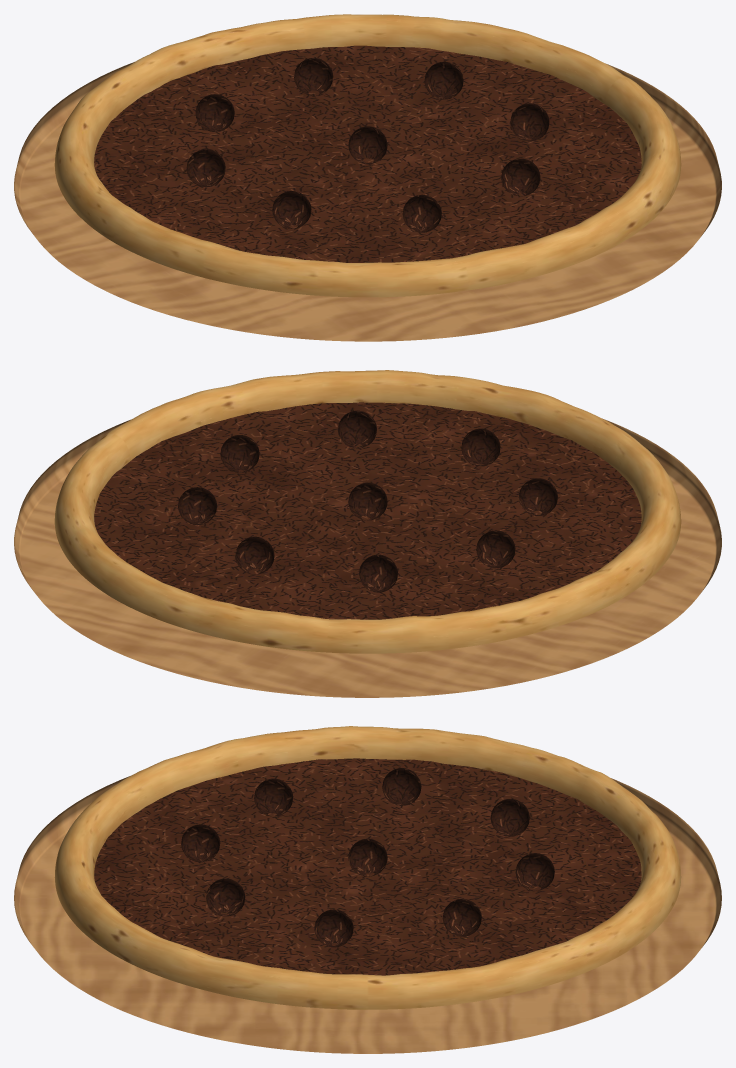
File: pizza-brigadeiro.glb
The picture shows the model from 3 angles, top to bottom: view 1: azimuth 30°, elevation 25°; view 2: azimuth 150°, elevation 25°; view 3: azimuth 270°, elevation 25°; orthographic projection.
Visible parts, largest first — view 1: pizza-brigadeiro; view 2: pizza-brigadeiro; view 3: pizza-brigadeiro.
Part boxes in pixels (box(x1,y1,x2,y2)): pizza-brigadeiro: box(14, 14, 721, 341); pizza-brigadeiro: box(14, 370, 721, 697); pizza-brigadeiro: box(14, 726, 721, 1053).
Size of the model in its own units: 0.432 by 0.0468 by 0.432.
Materials: 4 (4 with a texture image).
